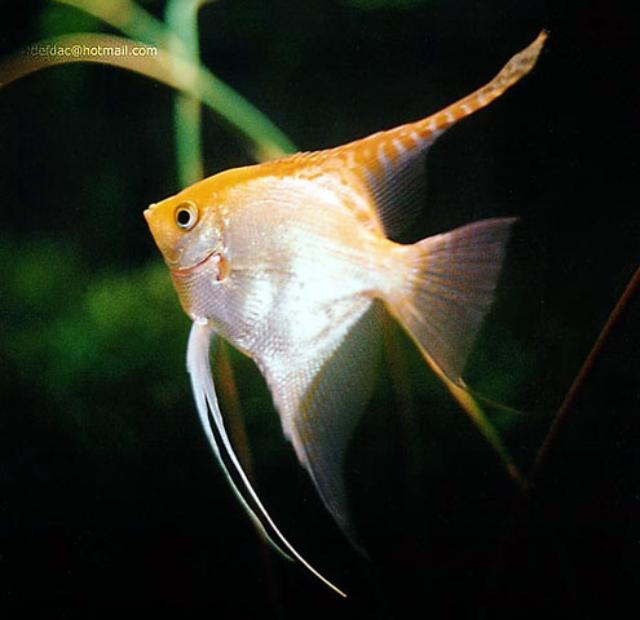Mulut: (124, 182, 186, 274)
Sirip Anal: (267, 294, 391, 578)
Sirip Dada: (212, 246, 300, 302)
Sirip Ekor: (390, 208, 550, 492)
Sirip Perut: (170, 312, 356, 614)
Sirip Punggung: (366, 24, 562, 242)
